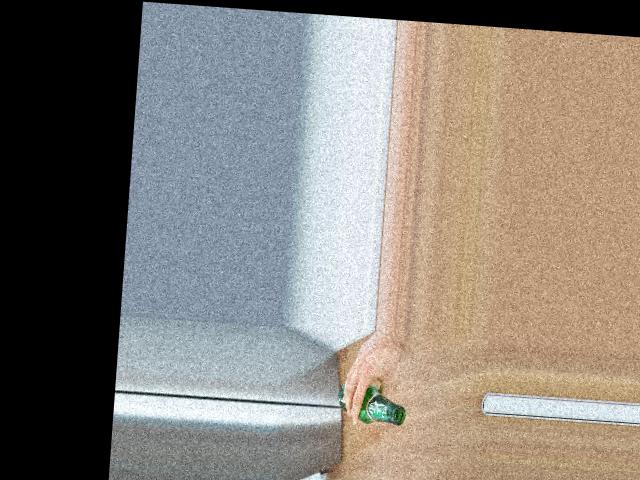beer: (337, 382, 408, 425)
